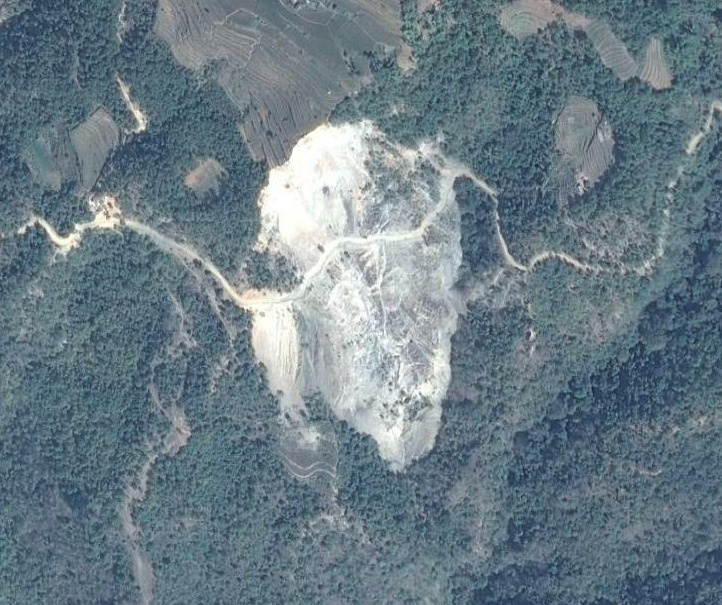slope: (241, 113, 467, 475), (48, 188, 126, 261)
